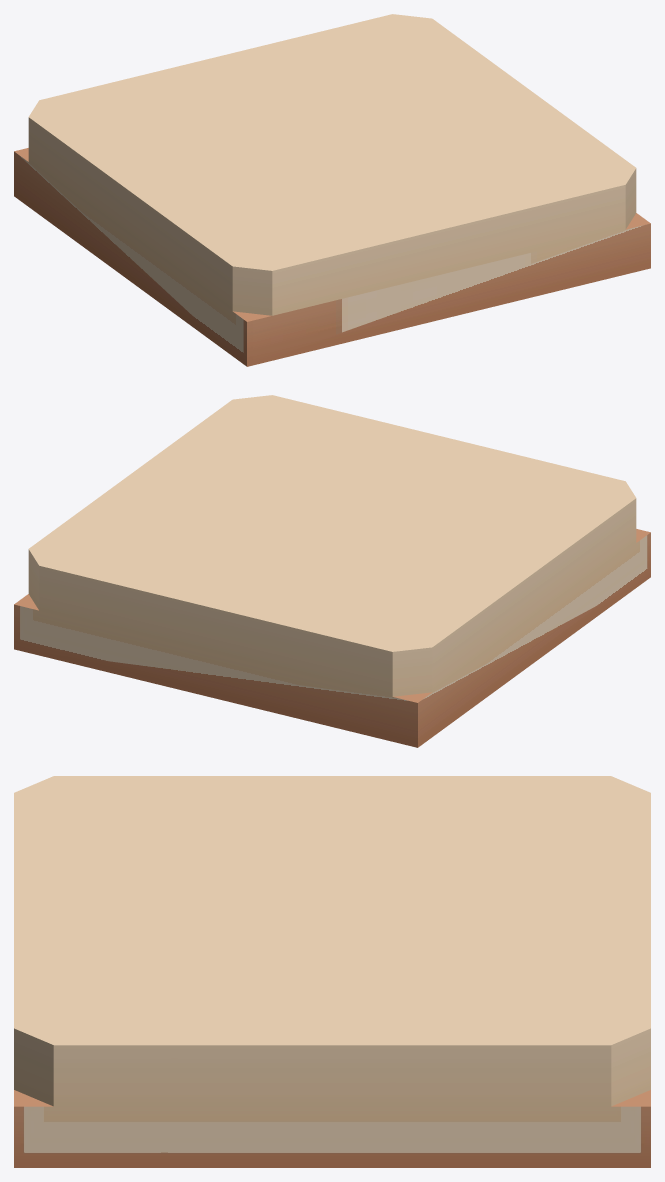
Rendered from roof-flat-detail-a.glb.
The picture shows the model from 3 angles, top to bottom: view 1: azimuth 30°, elevation 25°; view 2: azimuth 150°, elevation 25°; view 3: azimuth 270°, elevation 25°; orthographic projection. The views are drawn at different scales.
Visible parts, largest first — view 1: roof-flat-detail-a; view 2: roof-flat-detail-a; view 3: roof-flat-detail-a.
Part boxes in pixels (bbox=[...]): roof-flat-detail-a: bbox=[14, 14, 650, 366]; roof-flat-detail-a: bbox=[14, 395, 650, 747]; roof-flat-detail-a: bbox=[14, 776, 650, 1167].
Size of the model in its own units: 1 by 0.2125 by 1.
Materials: 1 (1 with a texture image).
